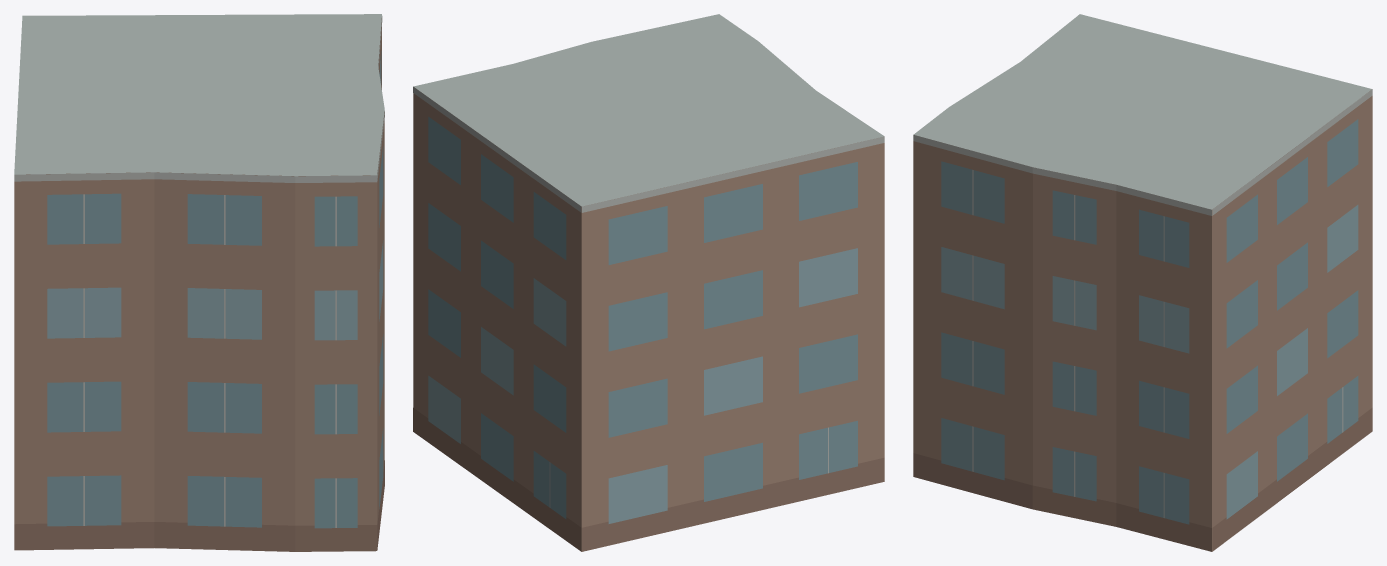
File: survey-upis-32746425.glb
3 views of the same model, side by side, from view 1: azimuth 30°, elevation 25°; view 2: azimuth 150°, elevation 25°; view 3: azimuth 270°, elevation 25° (orthographic). The views are drawn at different scales.
Parts seen in each view (by area): view 1: survey-upis-32746425.tmp; view 2: survey-upis-32746425.tmp; view 3: survey-upis-32746425.tmp.
Boxes of the visible parts, x1,y1,x2,y2 form: survey-upis-32746425.tmp: [14, 14, 384, 551]; survey-upis-32746425.tmp: [413, 14, 884, 551]; survey-upis-32746425.tmp: [913, 14, 1372, 551].
Bounding box in the file's own units: 16.17 × 13.18 × 16.04.
